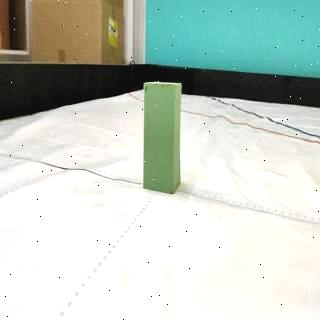greenbox: (144, 82, 182, 192)
